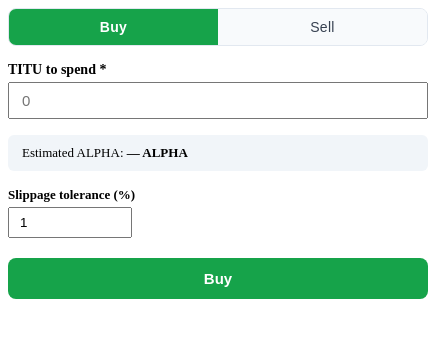
Test: TradeWidget › shows validation error when submitting with no amount
The width and height of the screenshot is (446, 345).
Click the button "Buy".
click(218, 278)  # box [8,258,428,299]
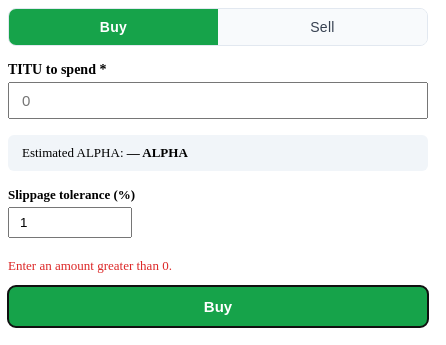
Result: the message shows "greater than 0" at [8,258,172,273]
